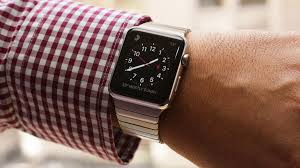clock: (123, 41, 170, 88)
